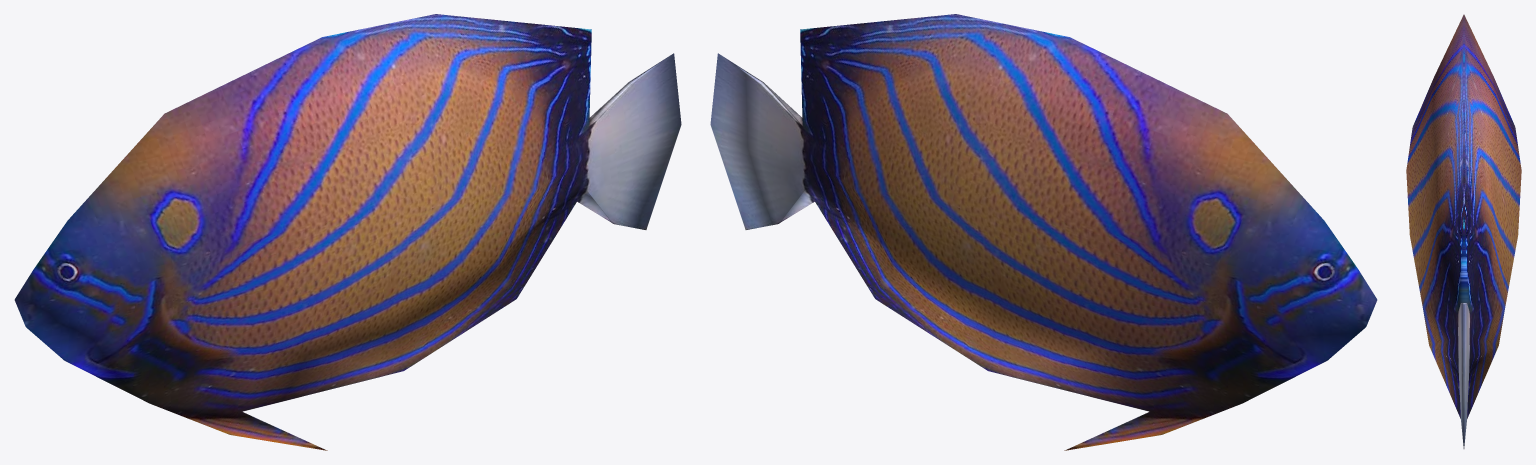
The model's file is angelfish.fbx.
3 views of the same model, side by side, from view 1: azimuth 30°, elevation 25°; view 2: azimuth 150°, elevation 25°; view 3: azimuth 270°, elevation 25° (orthographic). The views are drawn at different scales.
Visible parts, largest first — view 1: pCube14; view 2: pCube14; view 3: pCube14.
Part boxes in pixels (x1=…): pCube14: x1=14, y1=14, x2=681, y2=450; pCube14: x1=710, y1=14, x2=1377, y2=450; pCube14: x1=1406, y1=14, x2=1521, y2=448.
Size of the model in its own units: 19.7 by 11.72 by 3.17.
